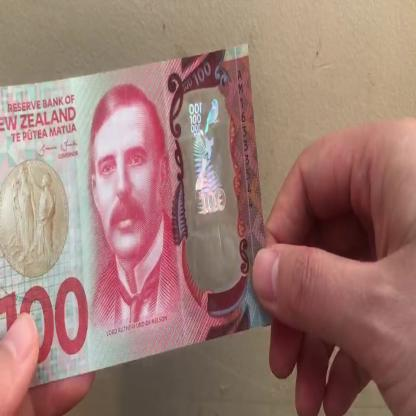100F: (185, 96, 235, 266)
